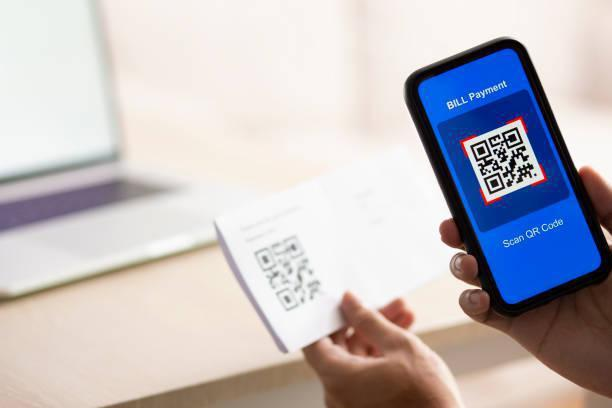qr_code: (253, 235, 327, 311), (471, 127, 537, 195)
